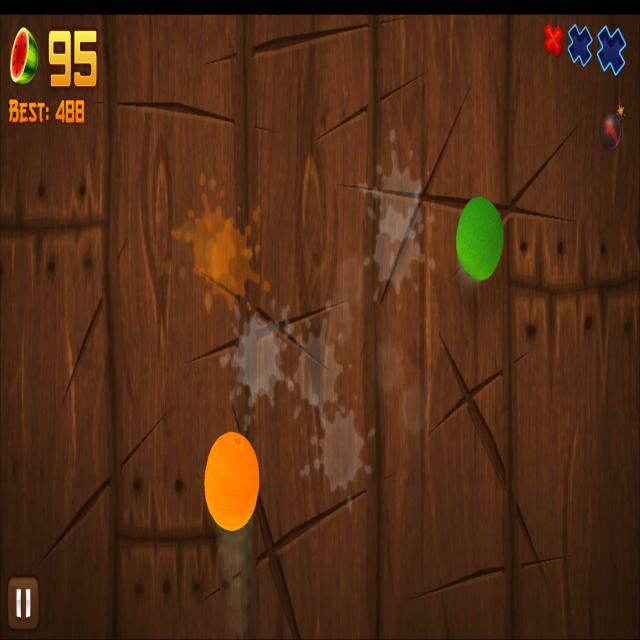fruit: (204, 432, 259, 532), (454, 195, 504, 282)
